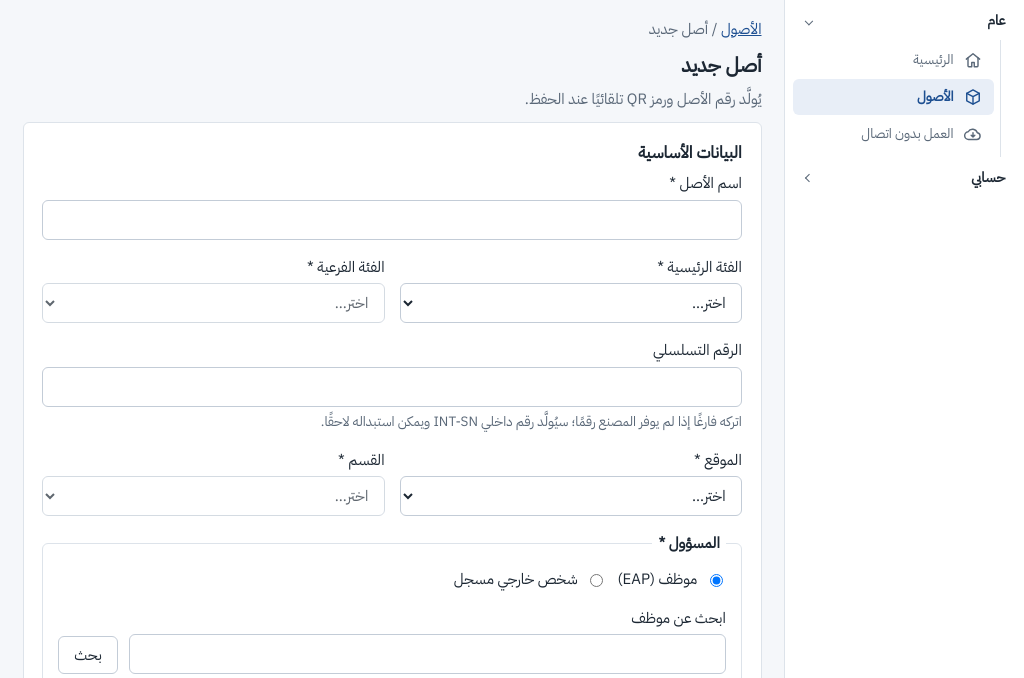
it: New asset › rejects an invalid MAC address before submitting
The image size is (1024, 678).
Select "الأصول التقنية (TEC)" in the dropdown labelled "الفئة الرئيسية *": coordinates (571, 303) [400,283,742,323]
(page scrolled)
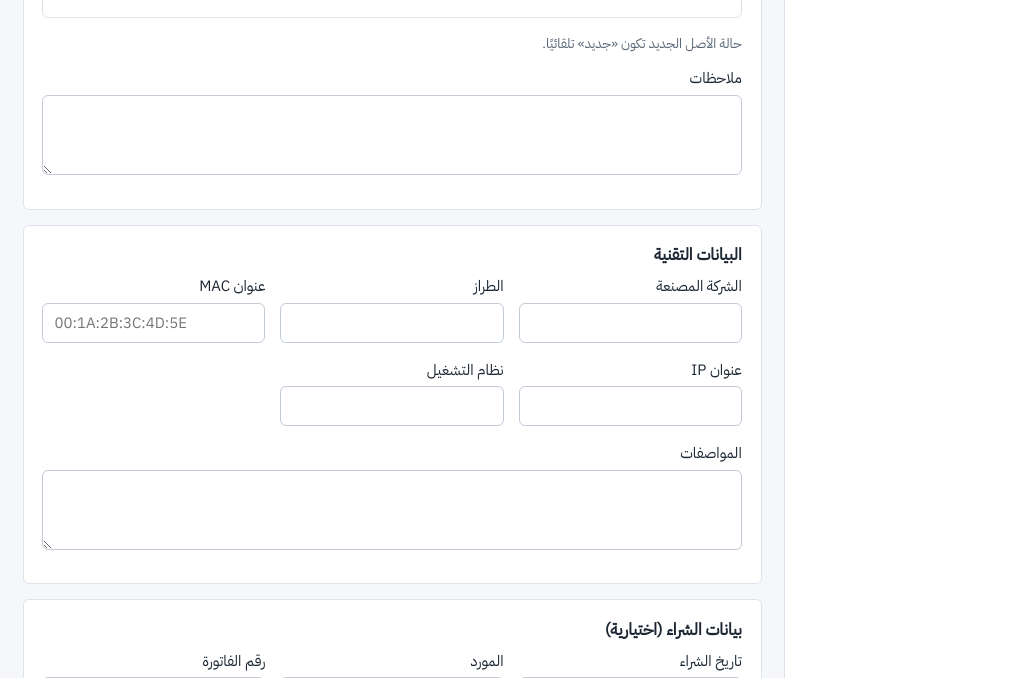
In the field labelled "عنوان MAC": coordinates (154, 322) [42,302,266,342], type "not-a-mac"
(page scrolled)
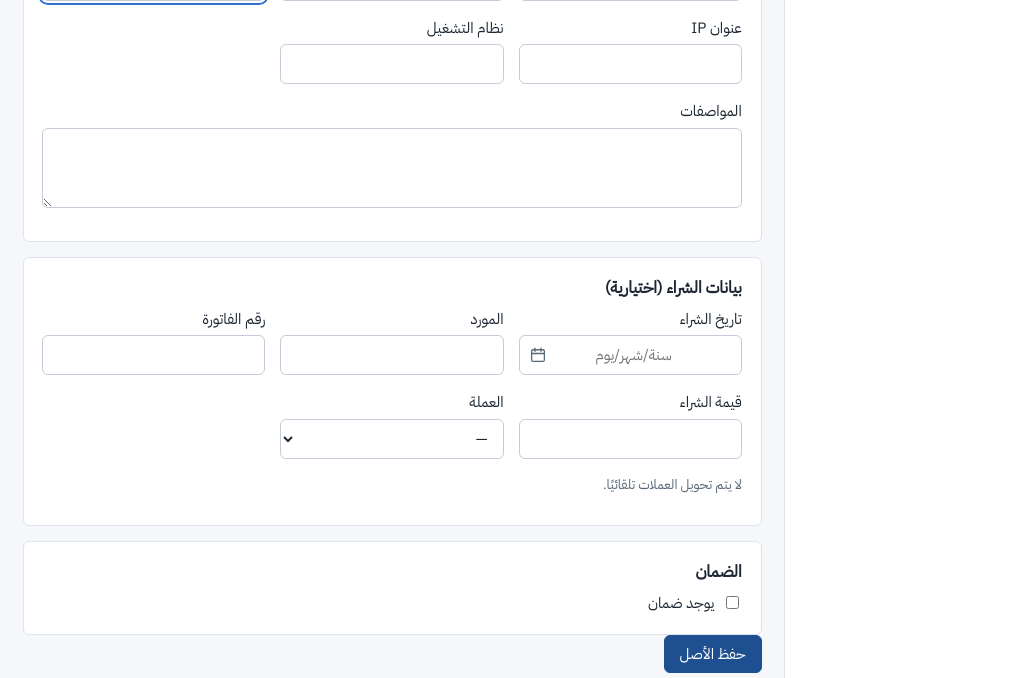
Click the button "حفظ الأصل": coordinates (712, 654) [664,635,762,673]
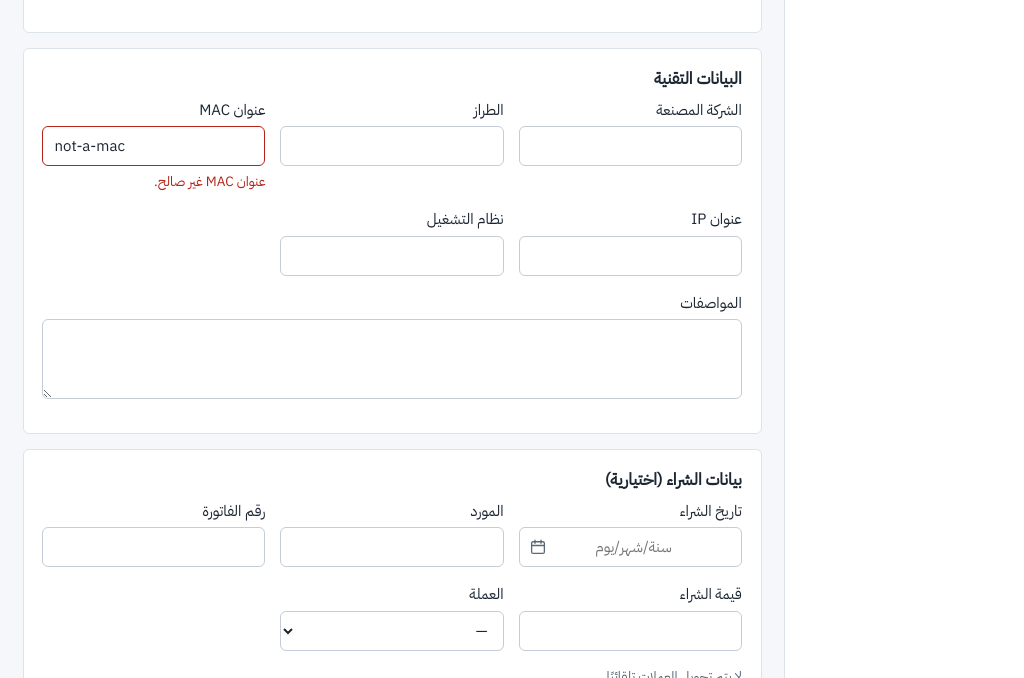
expect the text "عنوان MAC غير صالح." is shown: met, box [154,171,265,192]
